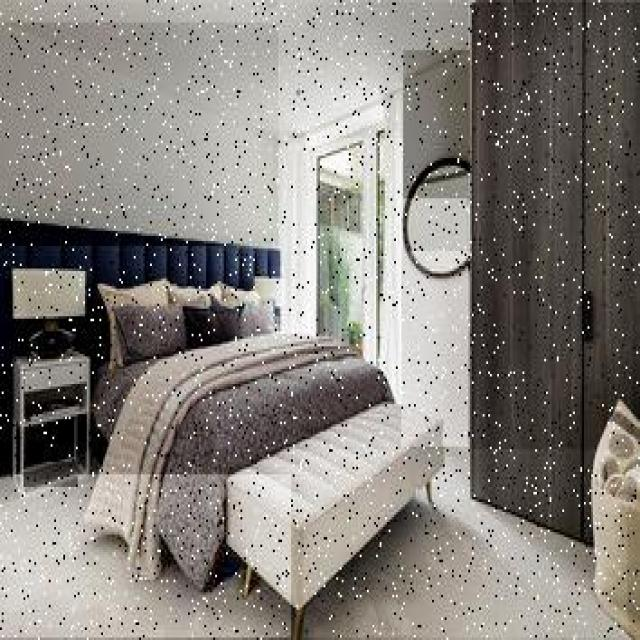Wall: (0, 1, 468, 138), (0, 24, 278, 246), (304, 450, 627, 637), (0, 477, 291, 637), (402, 253, 468, 447), (404, 51, 470, 198), (25, 463, 78, 487)
